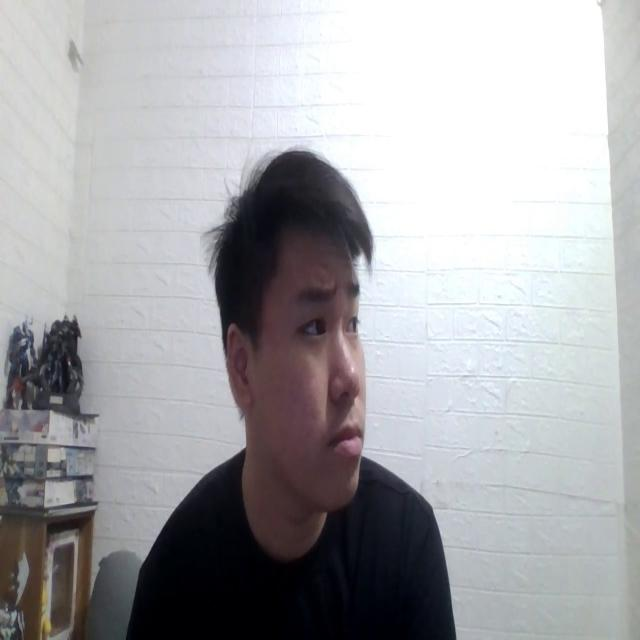student: (123, 138, 457, 640)
